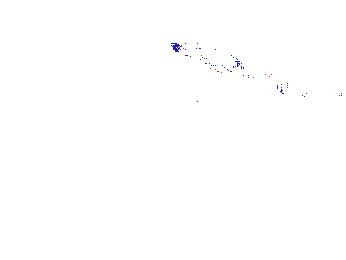X-ray fish: (79, 106, 113, 143)
redtail glassfish: (167, 37, 250, 77), (275, 80, 346, 105)
